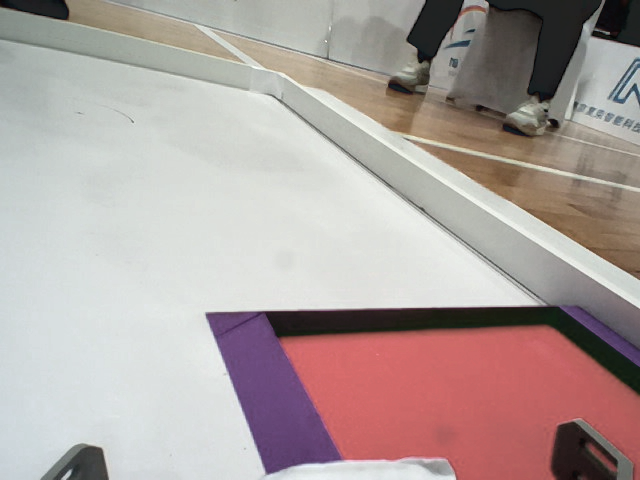kuang: (199, 301, 640, 480)
